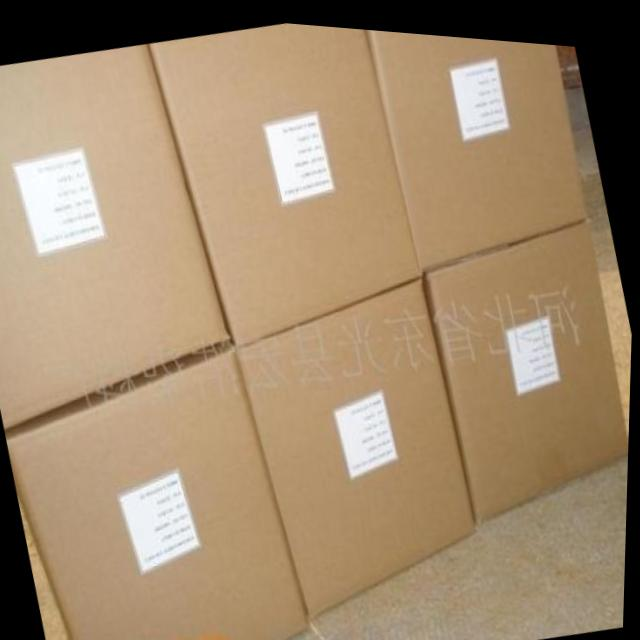box: (8, 335, 313, 640), (148, 18, 423, 345), (0, 41, 231, 429), (238, 269, 479, 614), (424, 208, 631, 517), (368, 24, 588, 264)
